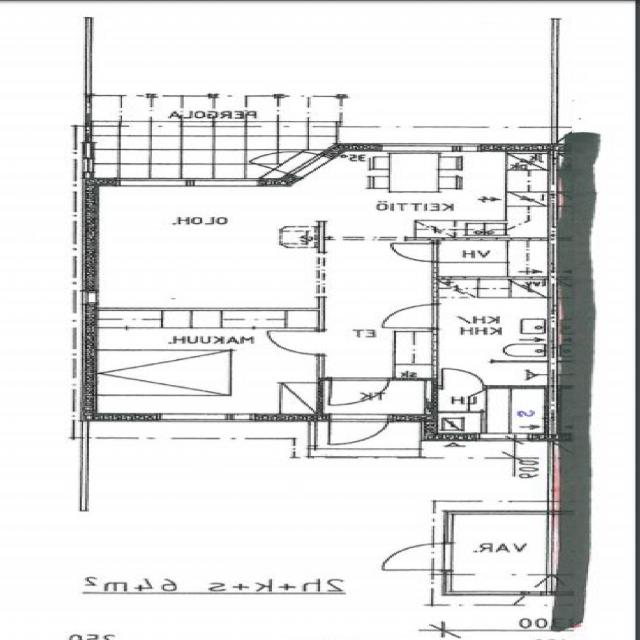door: (245, 141, 333, 178), (330, 415, 389, 448), (386, 545, 450, 570), (332, 378, 388, 406), (379, 305, 438, 328), (264, 332, 324, 354), (391, 244, 438, 262), (444, 368, 484, 389)
